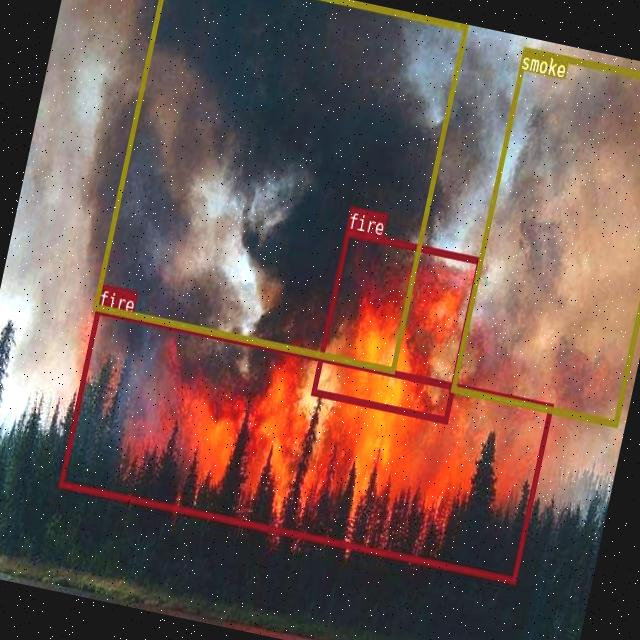fire: (58, 306, 552, 582), (310, 229, 481, 422)
smoke: (92, 0, 467, 371), (449, 45, 640, 426)
